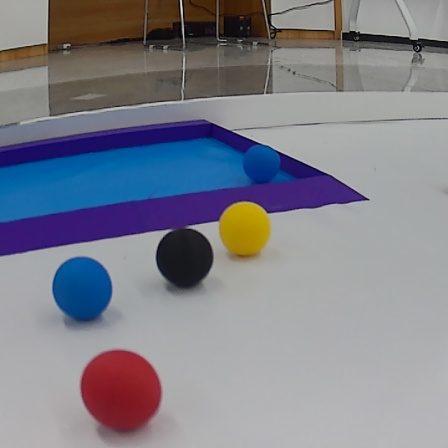black: (152, 226, 218, 294)
blue: (49, 256, 115, 324), (241, 144, 284, 187)
red: (79, 348, 163, 441)
yellow: (211, 202, 281, 256)
